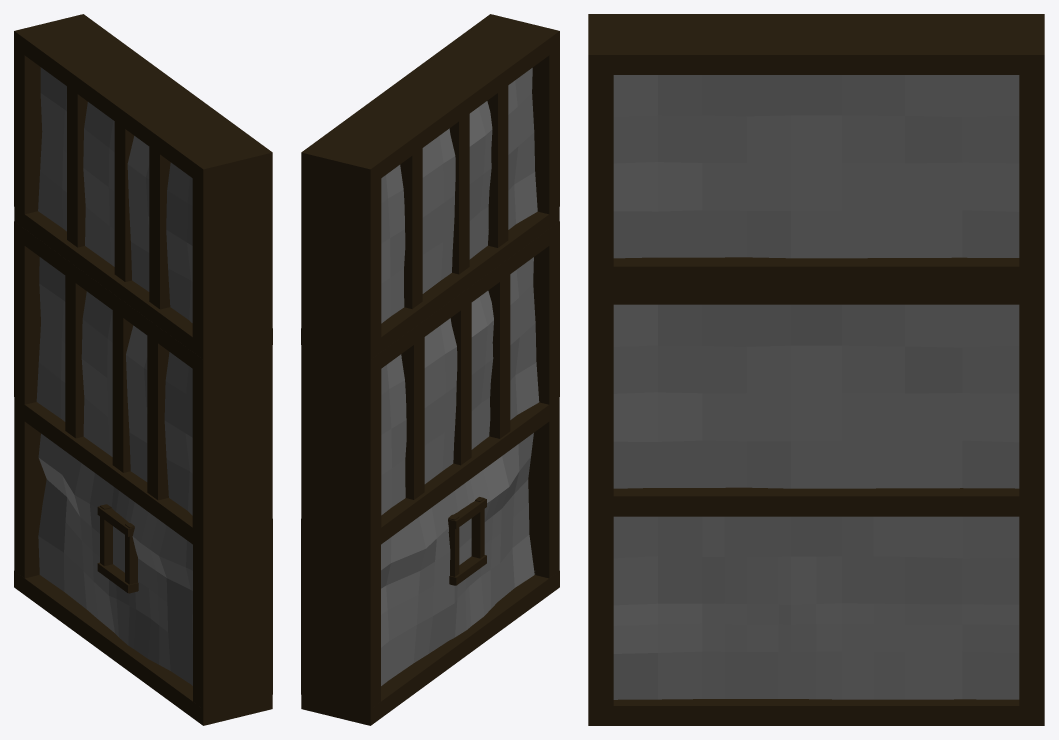
Rendered from wall_exterior_a.fbx.
The picture shows the model from 3 angles, left to right: view 1: azimuth 30°, elevation 25°; view 2: azimuth 150°, elevation 25°; view 3: azimuth 270°, elevation 25°; orthographic projection. The views are drawn at different scales.
Visible parts, largest first — view 1: Wall_Exterior_A.001; view 2: Wall_Exterior_A.001; view 3: Wall_Exterior_A.001.
Boxes of the visible parts, x1,y1,x2,y2 form: Wall_Exterior_A.001: (14,14,272,725); Wall_Exterior_A.001: (301,14,559,725); Wall_Exterior_A.001: (588,14,1044,725).
Bounding box in the file's own units: 104 × 780 × 481.
